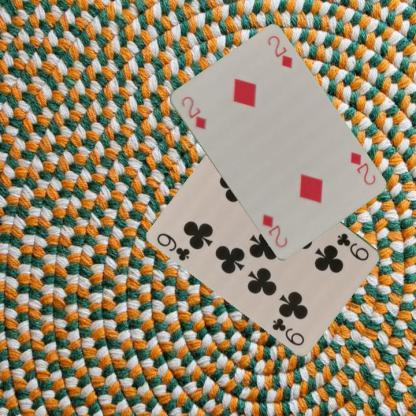2d: (346, 149, 376, 187), (178, 93, 207, 131)
9c: (154, 230, 192, 262), (334, 230, 371, 262)
